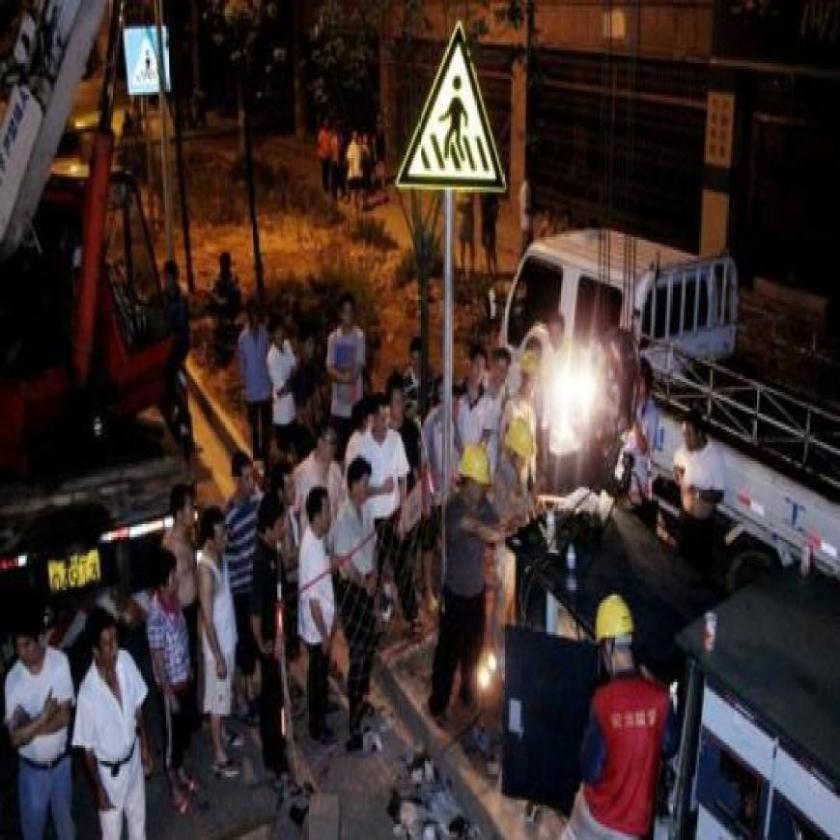Con_casco: (590, 583, 632, 677), (456, 444, 494, 510), (506, 417, 534, 480)
Sin_casco: (200, 503, 235, 562), (150, 544, 181, 608), (345, 454, 374, 511), (260, 497, 289, 553), (306, 483, 335, 536), (168, 483, 197, 532), (680, 409, 706, 460), (273, 463, 303, 507), (312, 420, 340, 466), (370, 393, 395, 444), (227, 450, 253, 498), (466, 345, 487, 392), (492, 345, 514, 388), (336, 295, 357, 335), (546, 312, 567, 352), (388, 372, 404, 423)
